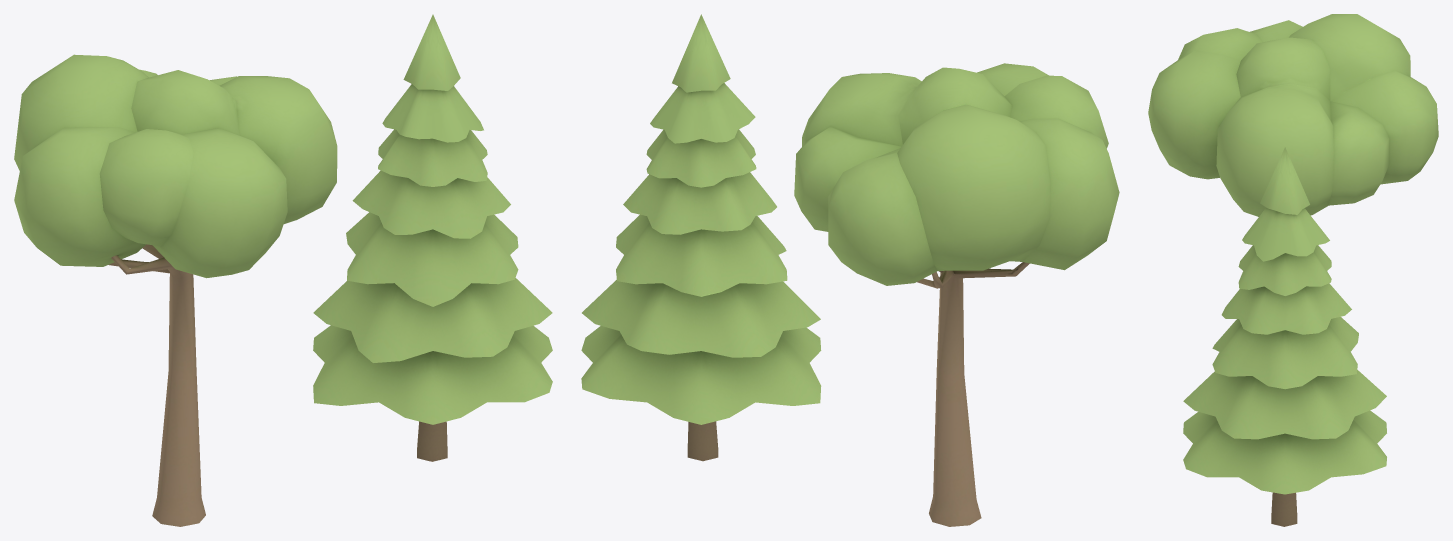
File: mixtree_d.glb
3 renders of one model, left to right at view 1: azimuth 30°, elevation 25°; view 2: azimuth 150°, elevation 25°; view 3: azimuth 270°, elevation 25°, orthographic. The views are drawn at different scales.
Parts seen in each view (by area): view 1: tree.002, Pine.002; view 2: tree.002, Pine.002; view 3: tree.002, Pine.002.
Boxes of the visible parts, x1,y1,x2,y2 form: tree.002: (14,54,337,526); Pine.002: (313,14,552,461); tree.002: (794,63,1119,526); Pine.002: (581,14,821,461); tree.002: (1148,14,1438,216); Pine.002: (1183,147,1386,526).
Bounding box in the file's own units: 25.02 × 20 × 14.07.
2 materials, 2 textured.
